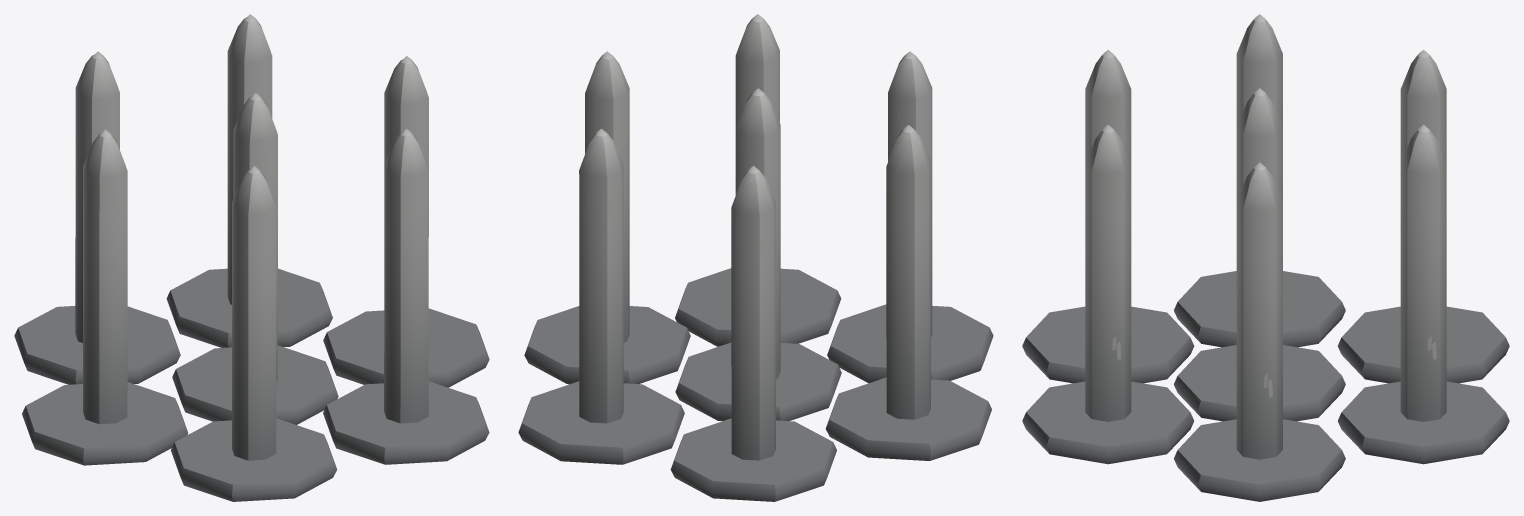
Rendered from group_of_nails.fbx.
3 renders of one model, left to right at view 1: azimuth 30°, elevation 25°; view 2: azimuth 150°, elevation 25°; view 3: azimuth 270°, elevation 25°, orthographic.
Visible parts, largest first — view 1: group_of_nails; view 2: group_of_nails; view 3: group_of_nails.
Part boxes in pixels (bbox=[...]): group_of_nails: bbox=[14, 14, 489, 501]; group_of_nails: bbox=[518, 14, 993, 501]; group_of_nails: bbox=[1022, 14, 1509, 501].
Bounding box in the file's own units: 9.53 × 6.17 × 8.91.
